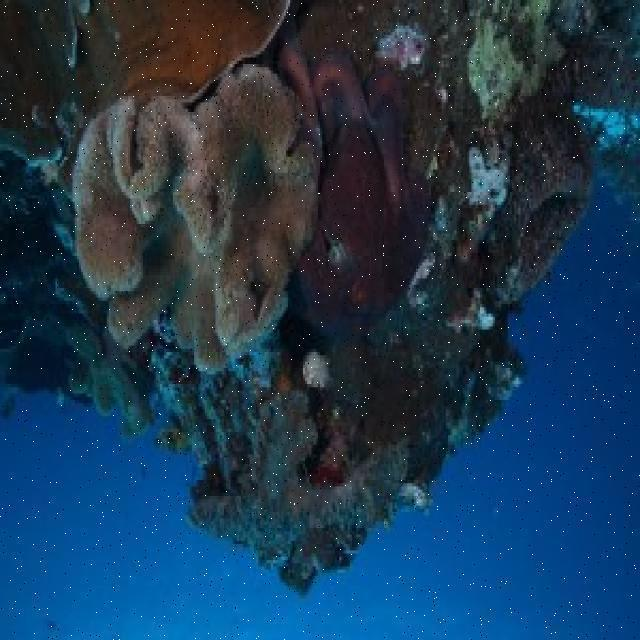Healthy: (68, 78, 323, 372)
